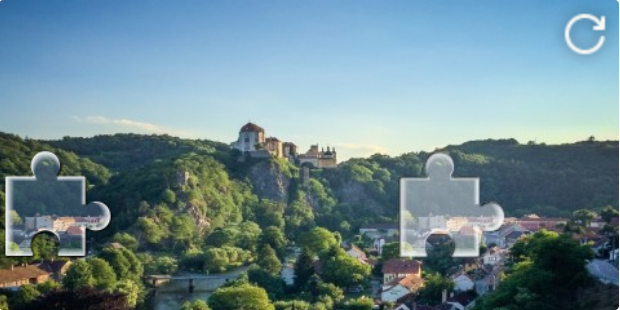target: (400, 153, 503, 256)
